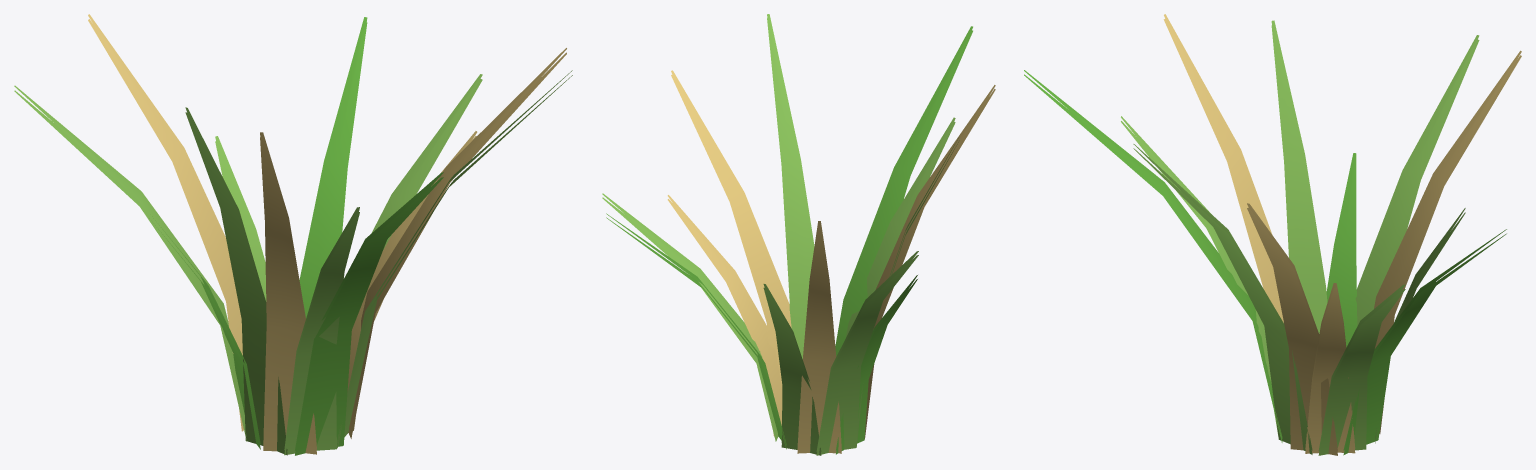
File: Hierba.fbx
The picture shows the model from 3 angles, left to right: view 1: azimuth 30°, elevation 25°; view 2: azimuth 150°, elevation 25°; view 3: azimuth 270°, elevation 25°; orthographic projection. The views are drawn at different scales.
Visible parts, largest first — view 1: Hierba; view 2: Hierba; view 3: Hierba.
Part boxes in pixels (box(x1,y1,x2,y2)): Hierba: box(14, 14, 572, 455); Hierba: box(602, 14, 995, 455); Hierba: box(1024, 14, 1521, 455).
Size of the model in its own units: 1.82 by 1.62 by 1.99.
1 material, 1 textured.
